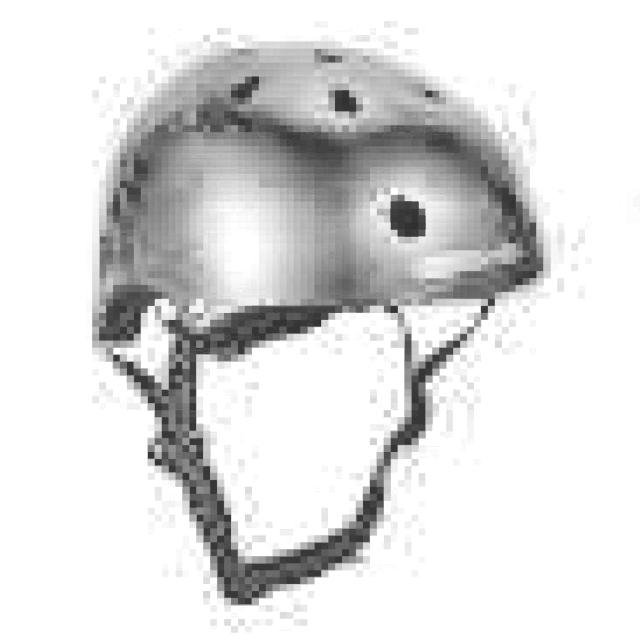Helmet: (37, 27, 574, 622)
